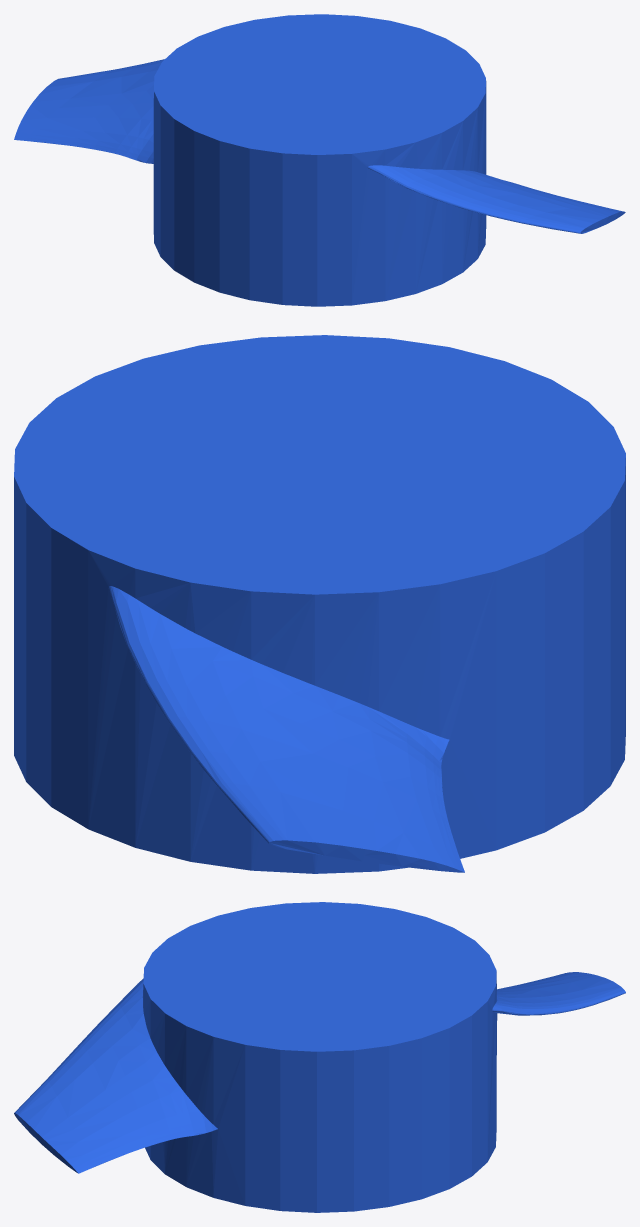
The model's file is T100-THRUSTER-PROP.dae.
The picture shows the model from 3 angles, top to bottom: view 1: azimuth 30°, elevation 25°; view 2: azimuth 150°, elevation 25°; view 3: azimuth 270°, elevation 25°; orthographic projection. The views are drawn at different scales.
Visible parts, largest first — view 1: T100-THRUSTER-PROP; view 2: T100-THRUSTER-PROP; view 3: T100-THRUSTER-PROP.
Part boxes in pixels (box(x1,y1,x2,y2)): T100-THRUSTER-PROP: box(14, 14, 625, 306); T100-THRUSTER-PROP: box(14, 335, 625, 873); T100-THRUSTER-PROP: box(14, 902, 625, 1212).
Size of the model in its own units: 0.0533 by 0.0691 by 0.0201.
